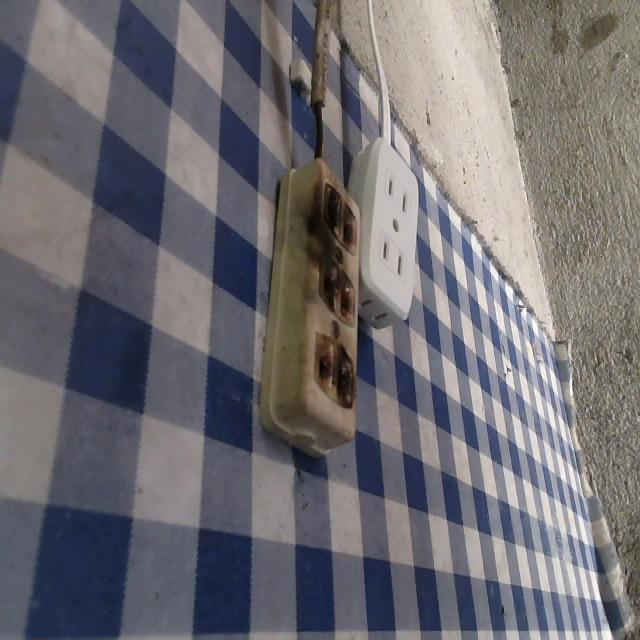-: (307, 175, 363, 253), (315, 256, 366, 329), (311, 333, 356, 415)
